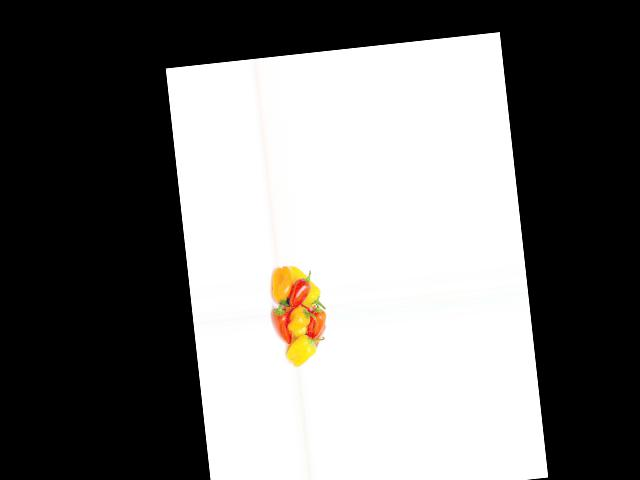bell_pepper: (289, 263, 324, 308)
